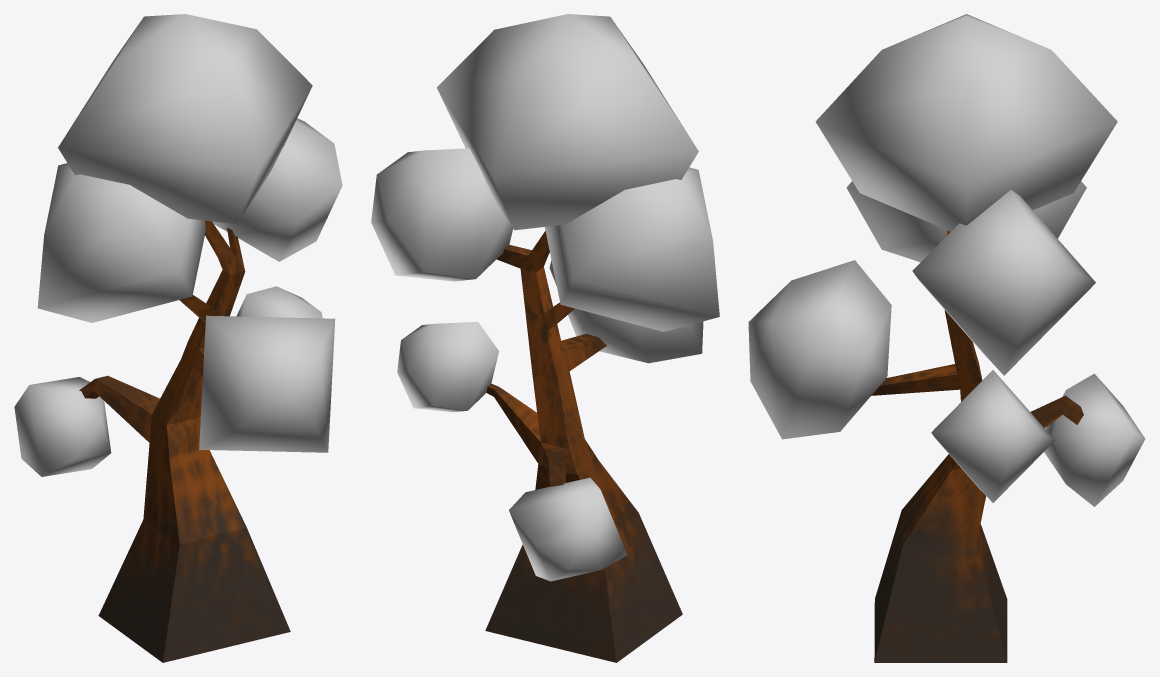
File: tree_7.fbx
The picture shows the model from 3 angles, left to right: view 1: azimuth 30°, elevation 25°; view 2: azimuth 150°, elevation 25°; view 3: azimuth 270°, elevation 25°; orthographic projection. The views are drawn at different scales.
Parts seen in each view (by area): view 1: polySurface24, polySurface22; view 2: polySurface24, polySurface22; view 3: polySurface24, polySurface22.
Part boxes in pixels (x1,y1,x2,y2): polySurface24: (14,14,342,476); polySurface22: (79,220,290,662); polySurface24: (371,14,719,581); polySurface22: (485,231,682,662); polySurface24: (748,14,1145,506); polySurface22: (871,230,1083,662).
Bounding box in the file's own units: 5.46 × 10.08 × 5.89.
